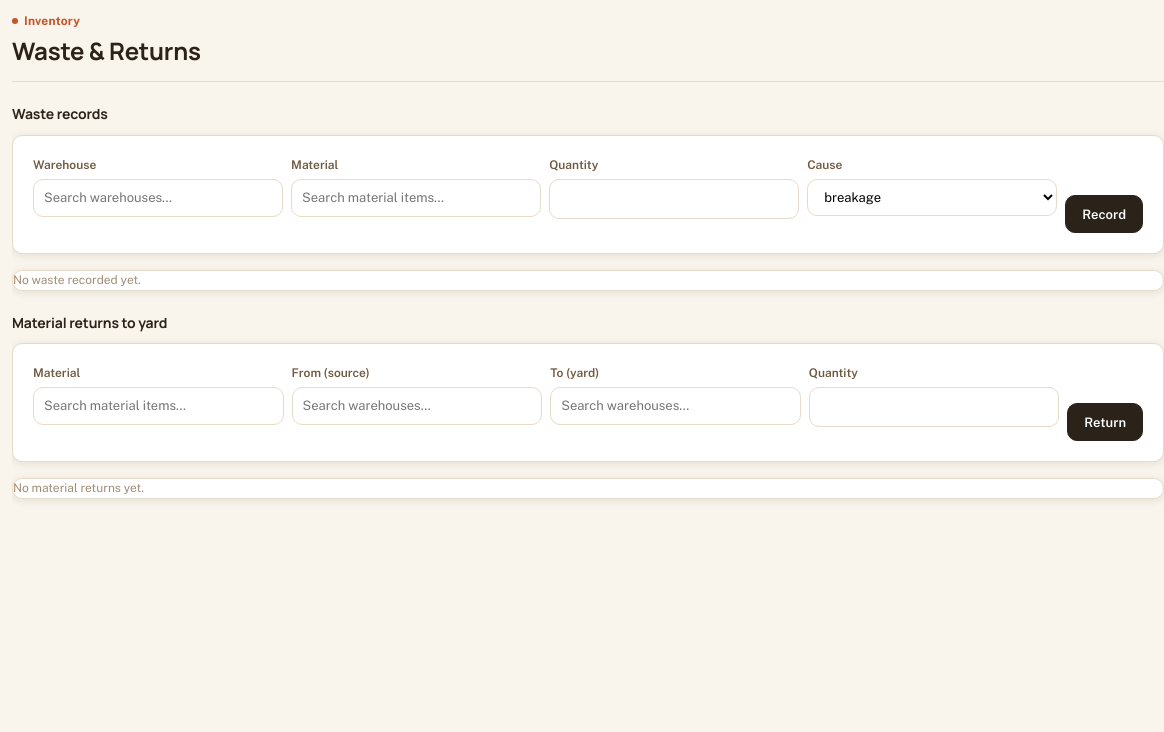
Test: WasteAndReturnsPage › shows a real error banner when recording waste fails
Expected: the text "No waste recorded yet." is shown, 13,273 -> 141,287
Click the dropdown labelled "Warehouse" at (158, 198), box 34,180 -> 282,216
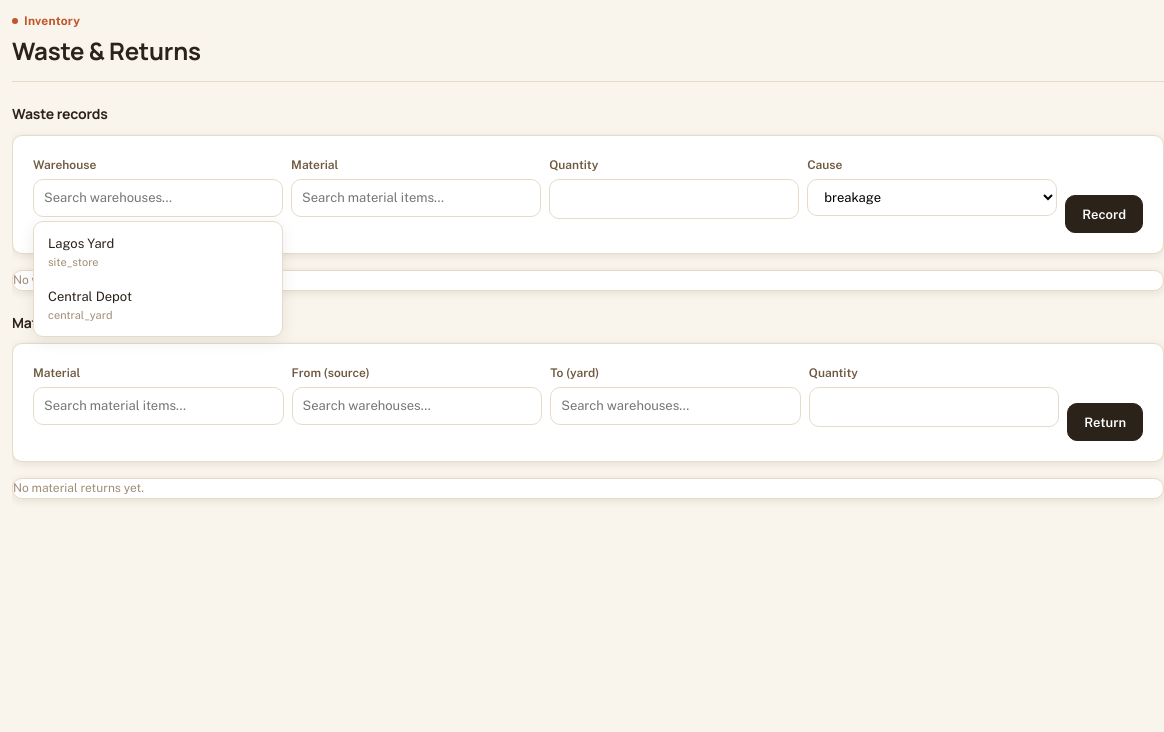
Click the text "Lagos Yard" at (81, 243), box 48,236 -> 114,251
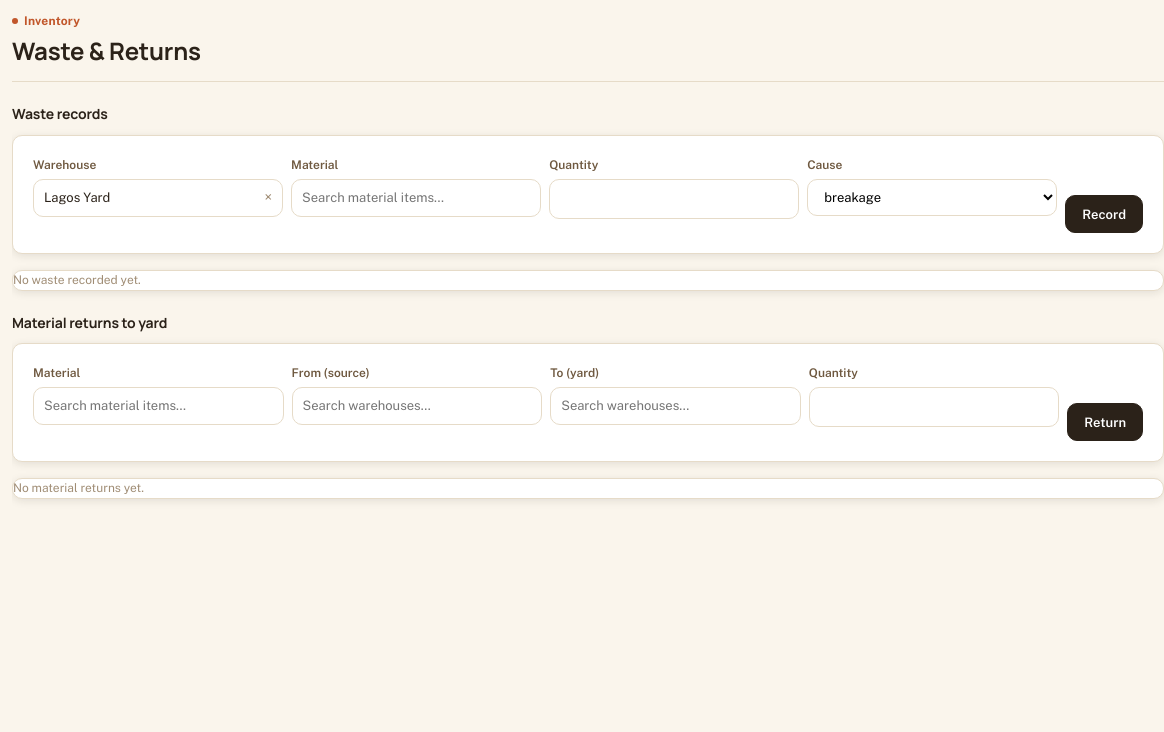
Click the dropdown labelled "Material" below "Warehouse" at (416, 198), box 292,180 -> 540,216
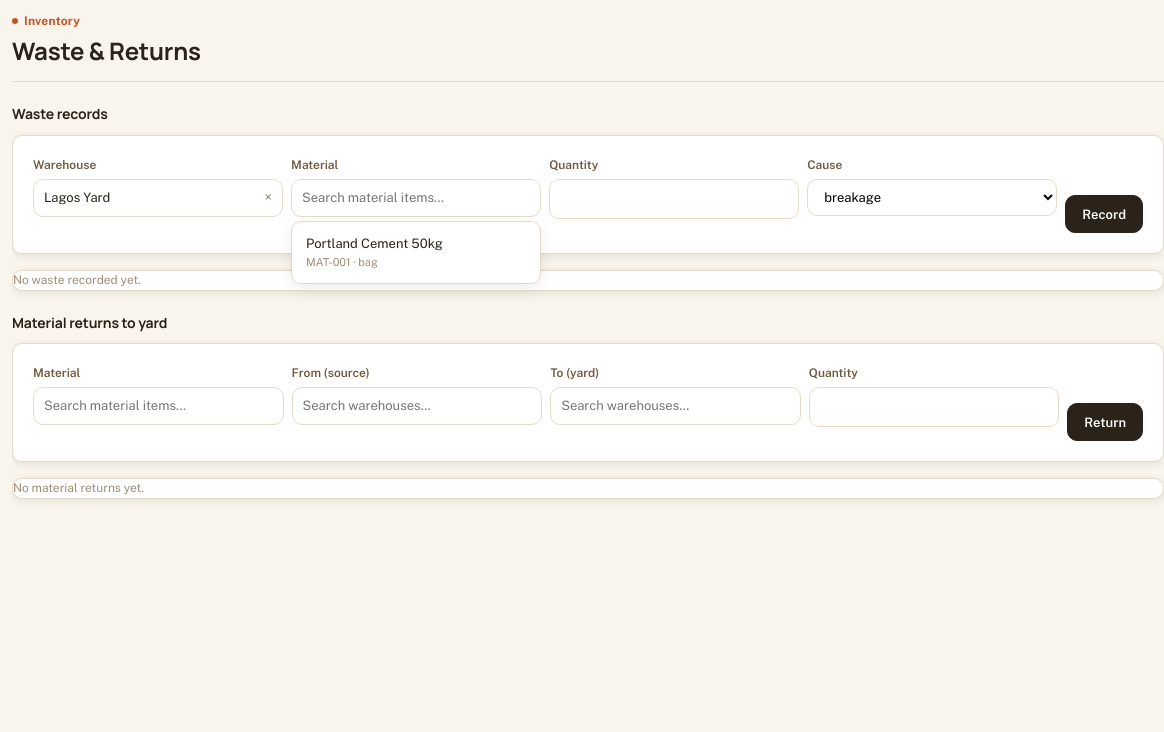
Click the text "Portland Cement 50kg" at (374, 243), box 306,236 -> 443,251
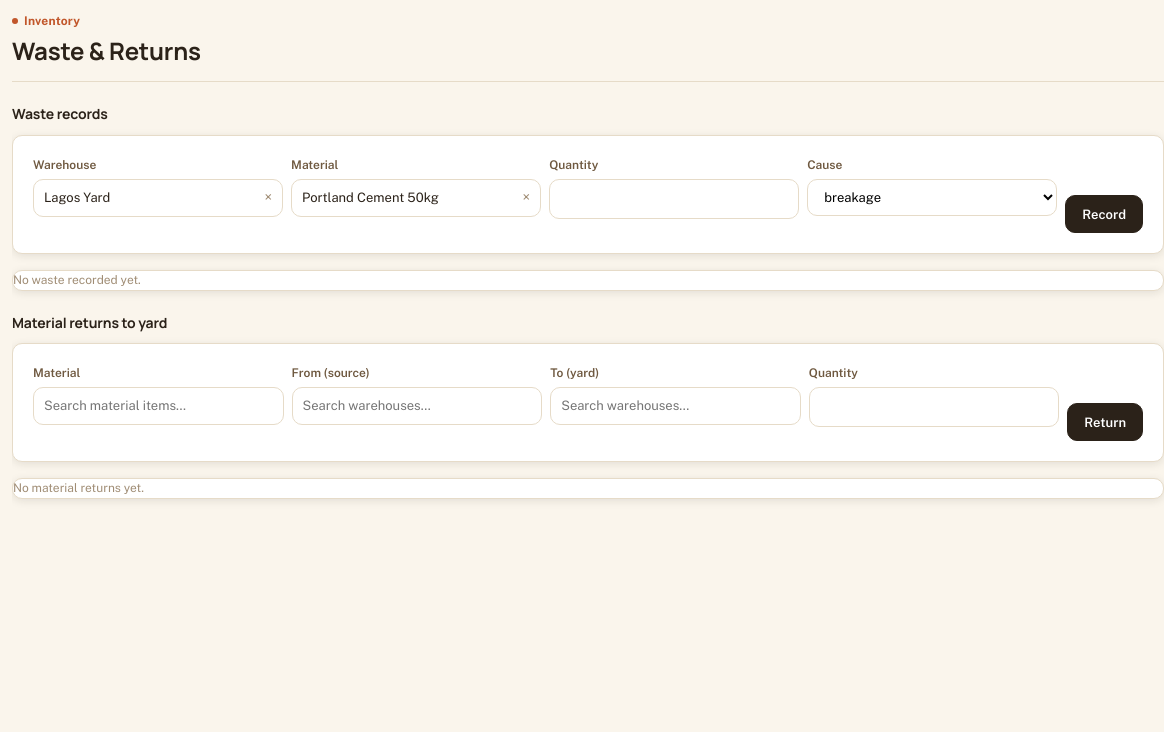
Type "1" into the number field labelled "Quantity" below "Cause" at (674, 199), box 549,179 -> 799,219
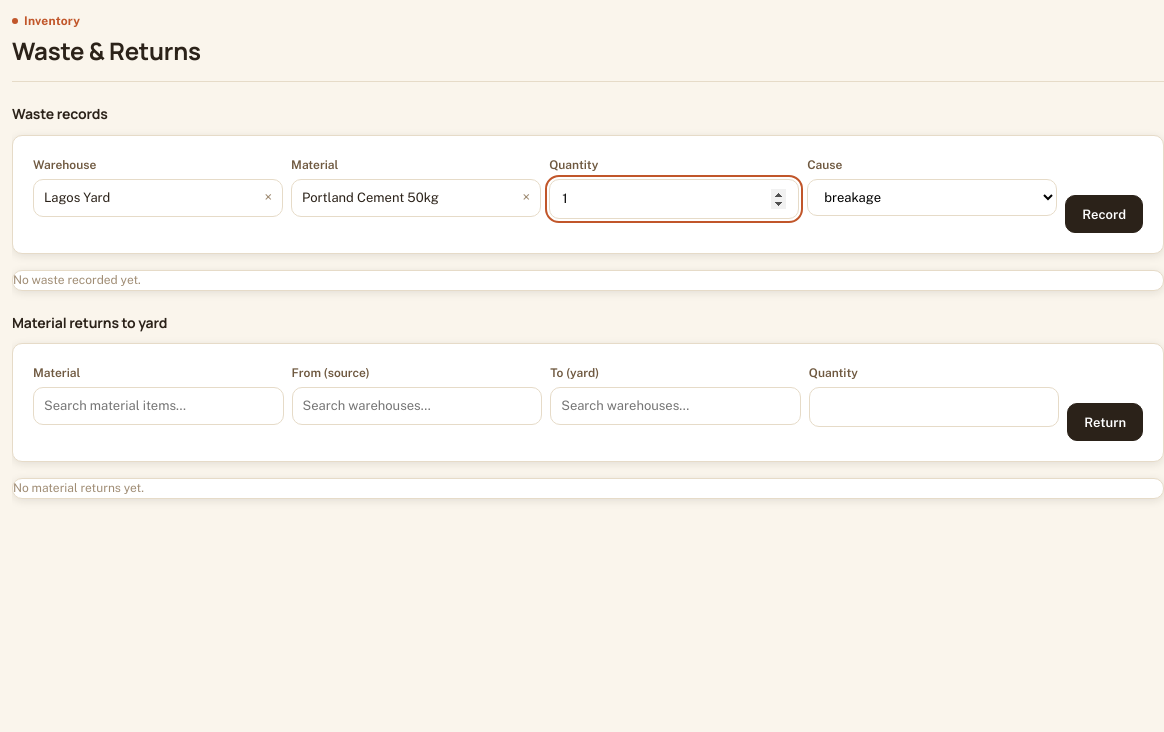
Click the button "Record" at (1104, 214), box 1065,195 -> 1143,233
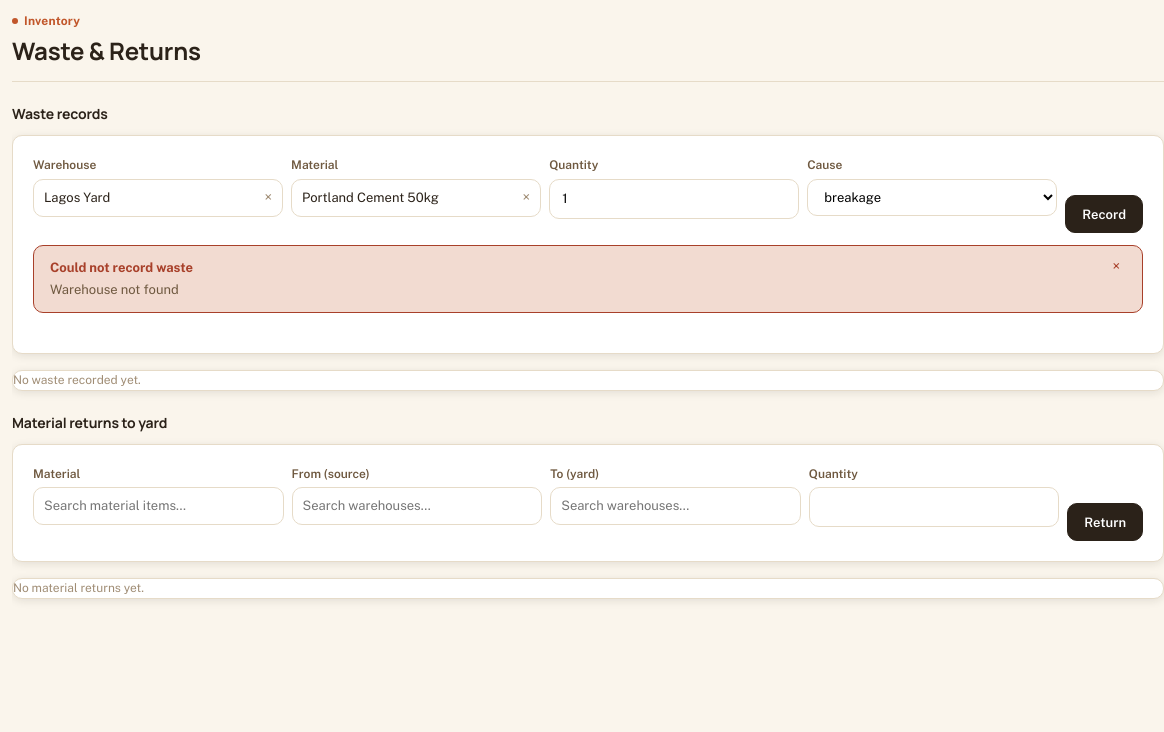
Expected: the text "Warehouse not found" is shown, 50,280 -> 193,300
